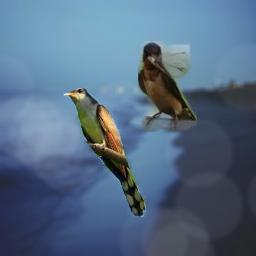Cuckoo: (63, 87, 146, 217)
Swallow: (138, 41, 197, 132)
